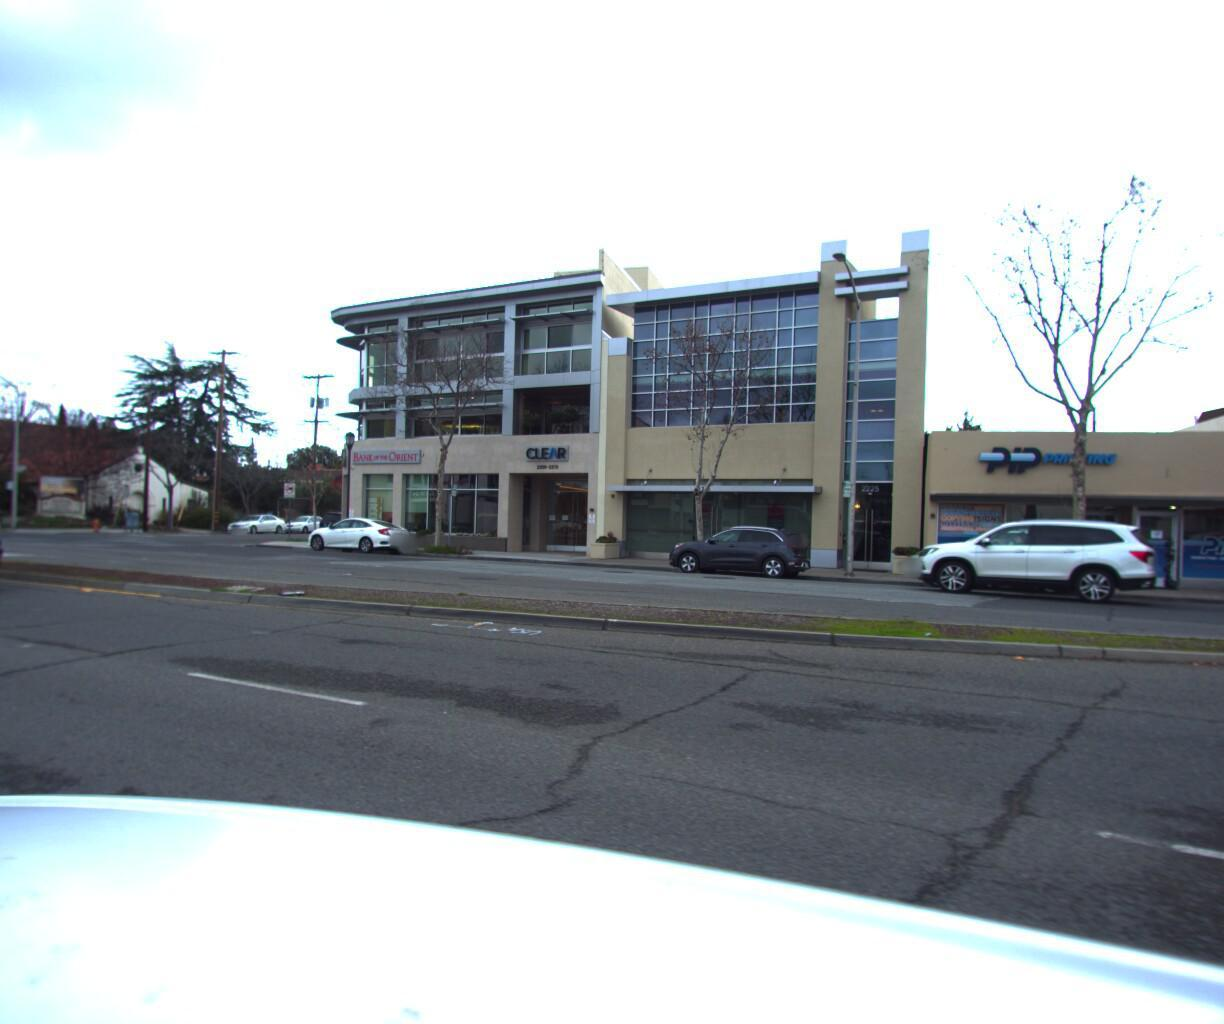car: (904, 509, 1160, 600), (894, 518, 1099, 598), (655, 519, 819, 578), (293, 508, 420, 553), (0, 391, 25, 599), (310, 505, 384, 537), (222, 507, 289, 531), (278, 509, 332, 530)
